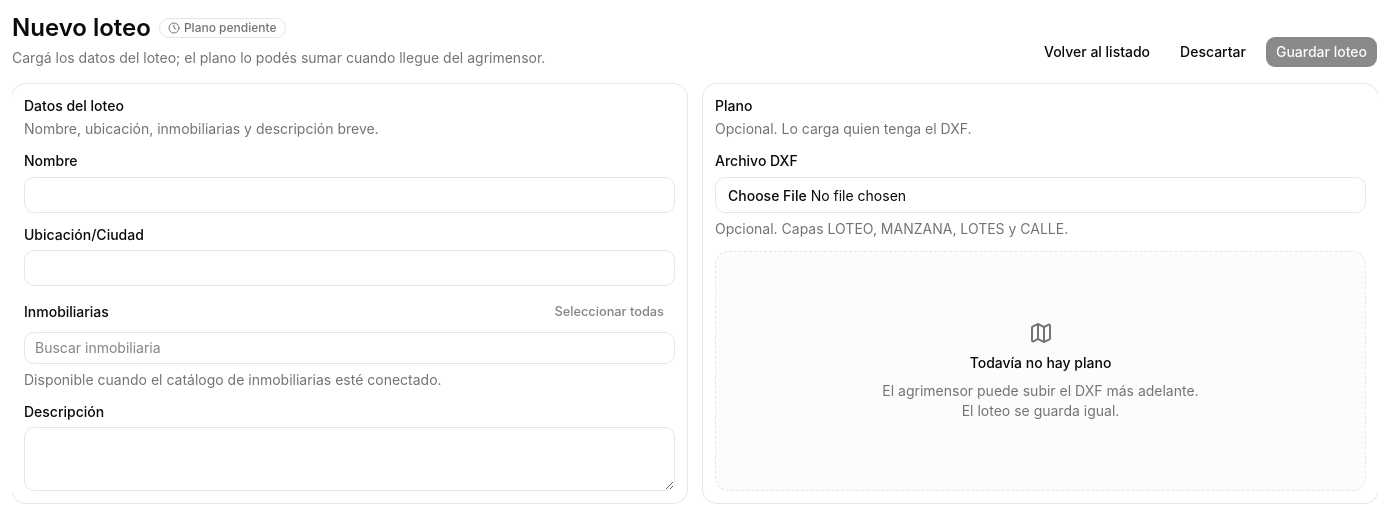
Test: LotsPage › enables the save button only once the loteo has a name
Check: the button "Guardar loteo" is disabled, box [1265,36,1378,68]
In the field labelled "Nombre": (350, 194) [24,176,675,212], type "Las Acacias"
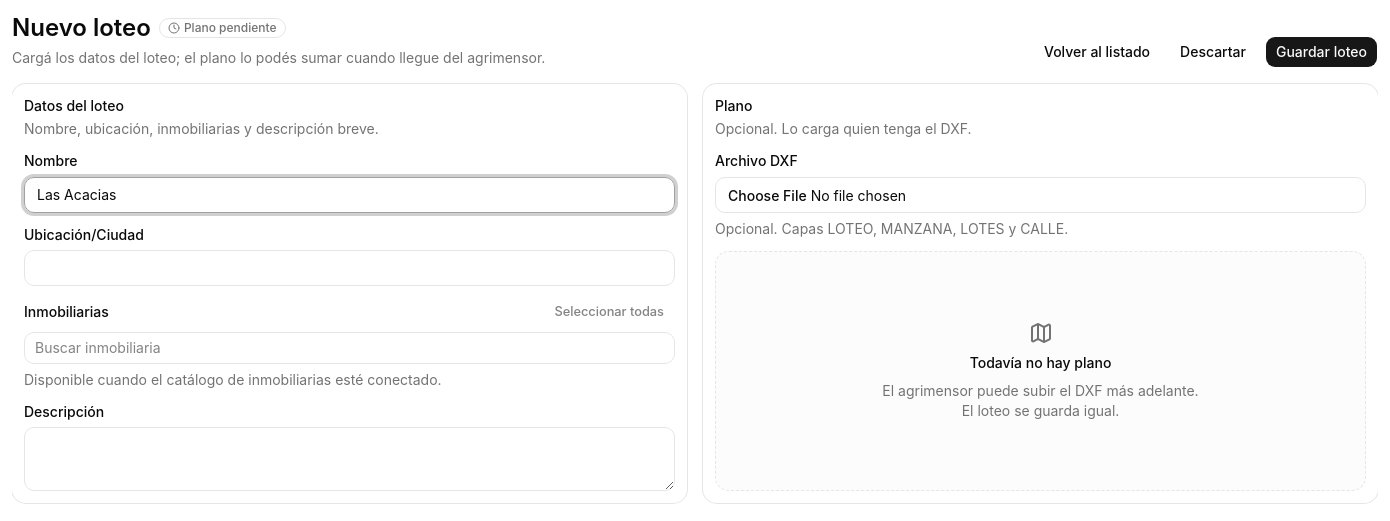
Check: the button "Guardar loteo" is enabled, box [1265,36,1378,68]
